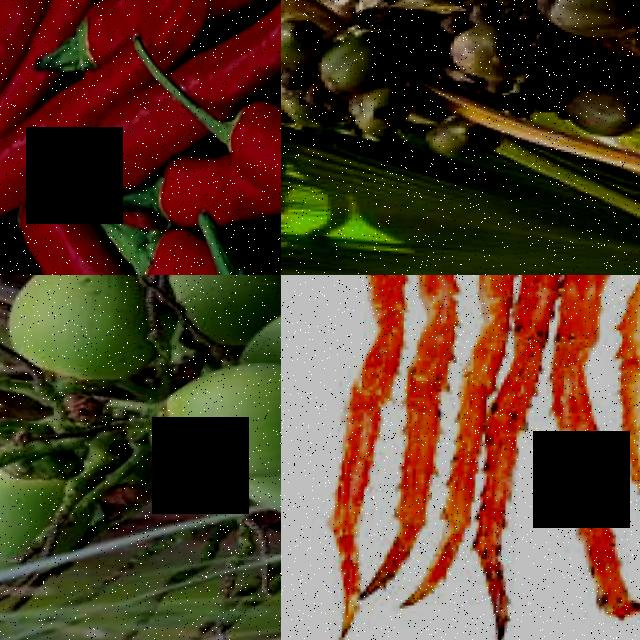chilli: (138, 149, 256, 226)
coconut: (0, 275, 162, 382), (150, 363, 281, 478), (446, 17, 535, 85), (321, 30, 402, 92), (545, 0, 640, 41), (427, 116, 502, 157), (281, 19, 324, 69)
crab: (426, 275, 640, 614), (298, 275, 472, 614)
